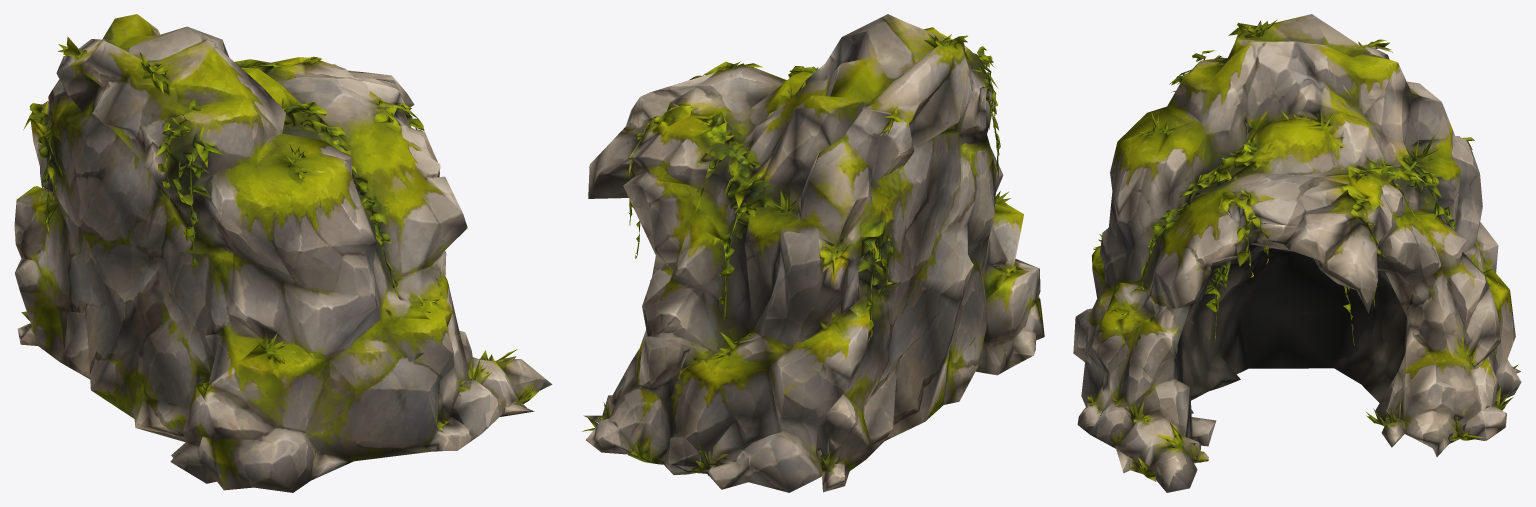
File: entrada_gruta.glb
The picture shows the model from 3 angles, left to right: view 1: azimuth 30°, elevation 25°; view 2: azimuth 150°, elevation 25°; view 3: azimuth 270°, elevation 25°; orthographic projection. The views are drawn at different scales.
Parts seen in each view (by area): view 1: tripo_node_9db1cc23-b854-463a-8117-c6988adae435; view 2: tripo_node_9db1cc23-b854-463a-8117-c6988adae435; view 3: tripo_node_9db1cc23-b854-463a-8117-c6988adae435.
Part boxes in pixels (box(x1,y1,x2,y2)): tripo_node_9db1cc23-b854-463a-8117-c6988adae435: box(14, 14, 552, 492); tripo_node_9db1cc23-b854-463a-8117-c6988adae435: box(582, 14, 1044, 492); tripo_node_9db1cc23-b854-463a-8117-c6988adae435: box(1073, 14, 1521, 492).
Size of the model in its own units: 0.8413 by 0.789 by 0.9743.
1 material, 1 textured.
